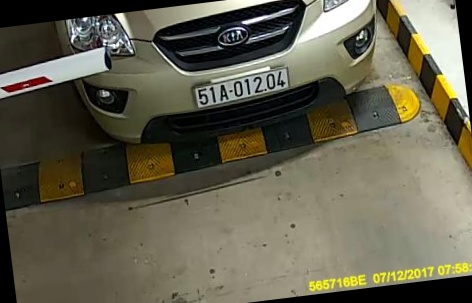plate: (190, 57, 293, 113)
